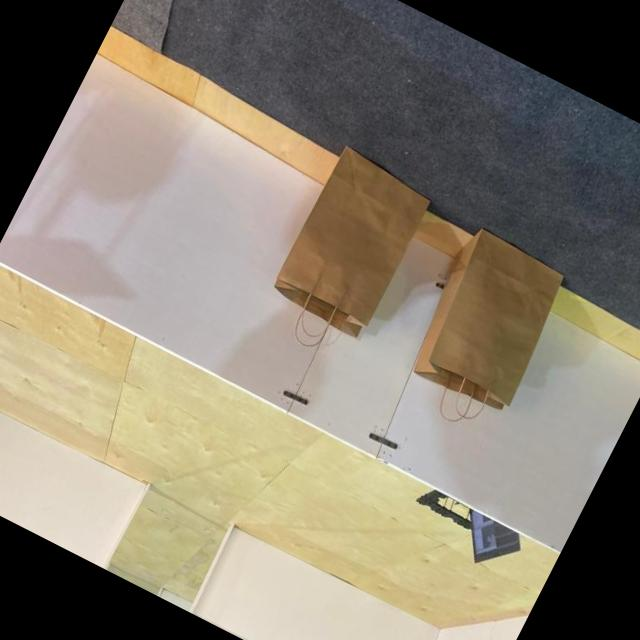Kardus: (386, 223, 576, 444), (252, 144, 437, 369)
